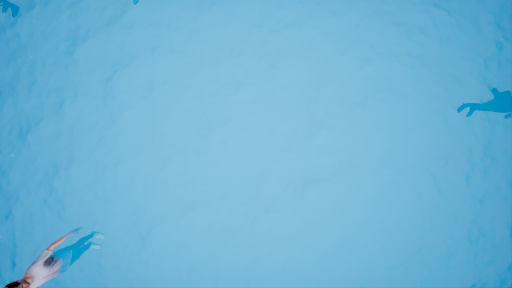person: (6, 225, 106, 288)
